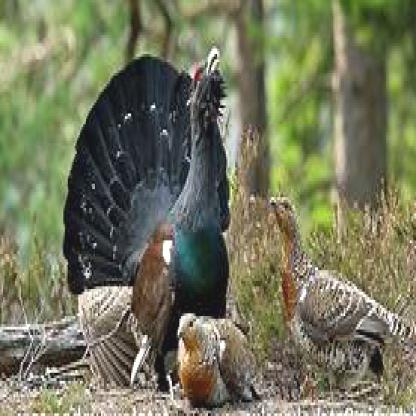chicken: (62, 46, 229, 386), (270, 197, 413, 392), (176, 313, 266, 408)
